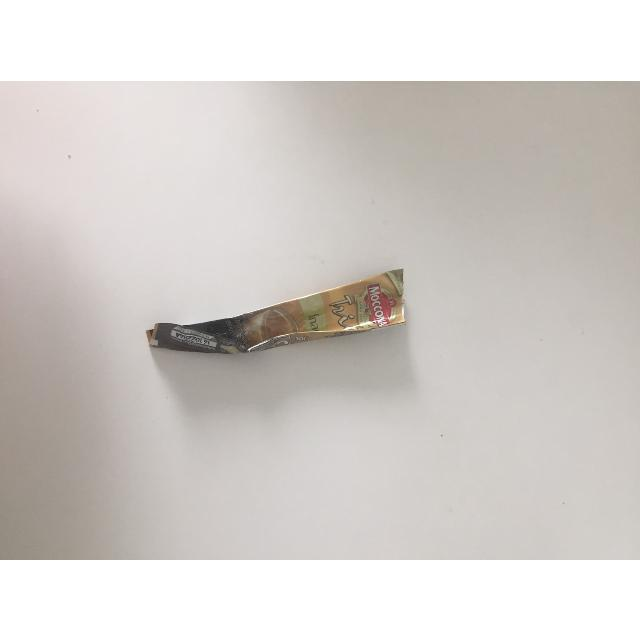Paquete de plastico: (144, 265, 405, 354)
